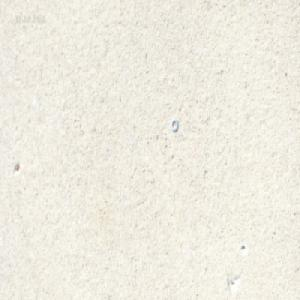Washer: (171, 117, 178, 131)
